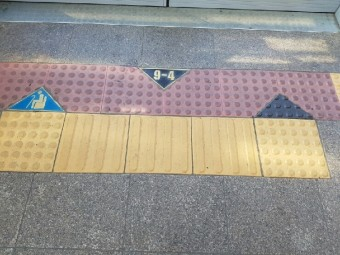guideBlock: (189, 114, 257, 175), (121, 115, 186, 172), (58, 113, 125, 168)
warningBlock: (1, 113, 57, 172), (270, 117, 319, 177), (226, 71, 287, 118), (163, 68, 223, 109), (107, 67, 161, 111), (52, 66, 105, 110), (294, 69, 340, 119), (2, 61, 47, 107)
